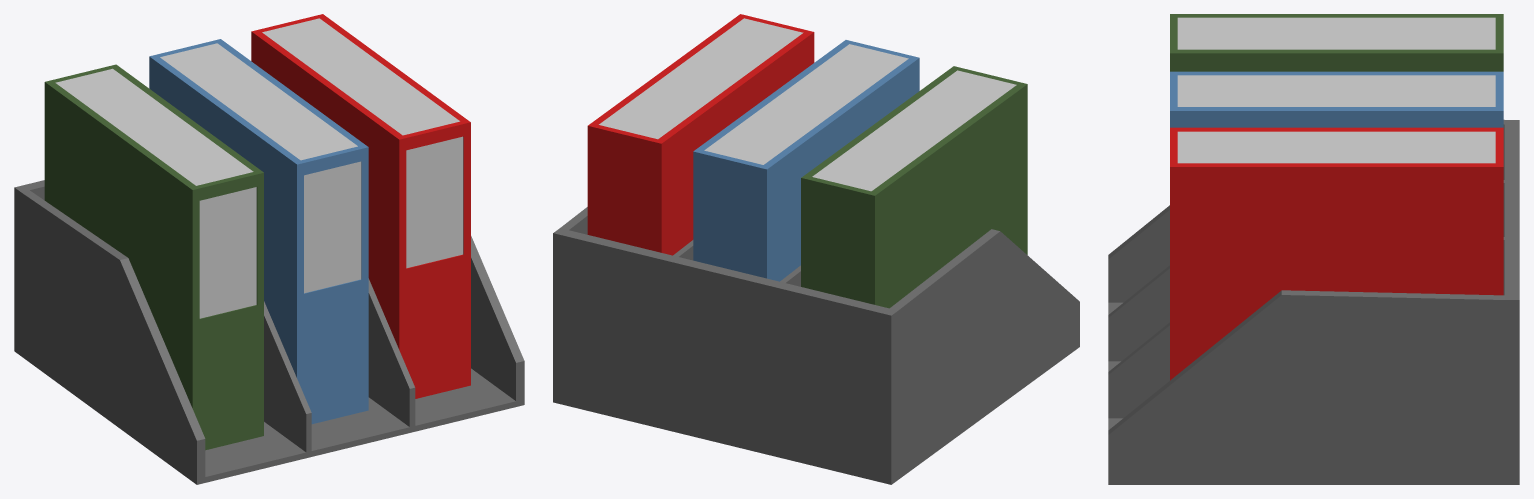
Rendered from Documents.fbx.
The picture shows the model from 3 angles, left to right: view 1: azimuth 30°, elevation 25°; view 2: azimuth 150°, elevation 25°; view 3: azimuth 270°, elevation 25°; orthographic projection. The views are drawn at different scales.
Visible parts, largest first — view 1: Documents; view 2: Documents; view 3: Documents.
Boxes of the visible parts, x1,y1,x2,y2 form: Documents: [14, 14, 524, 484]; Documents: [553, 14, 1079, 484]; Documents: [1108, 14, 1519, 484].
Size of the model in its own units: 66.94 by 52.54 by 64.57.
